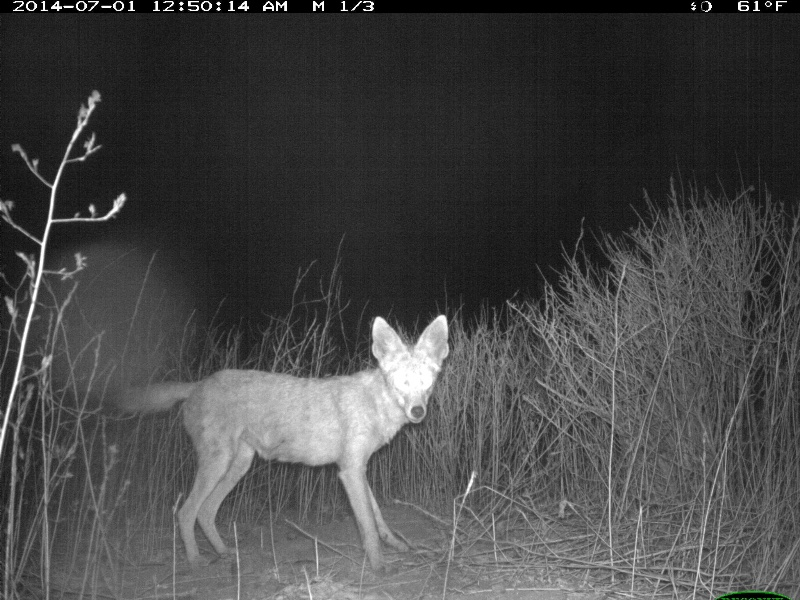coyote: (115, 308, 464, 566)
